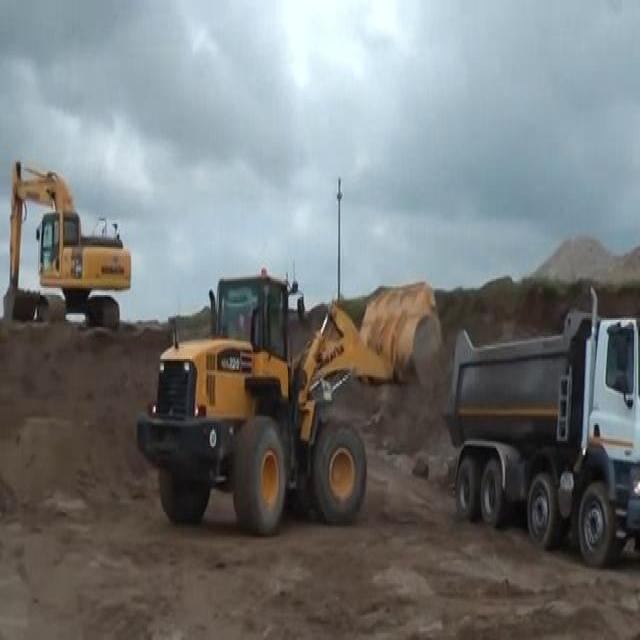Dump Truck: (442, 284, 639, 570)
Excavator: (2, 160, 130, 327)
Loader: (136, 265, 451, 537)
